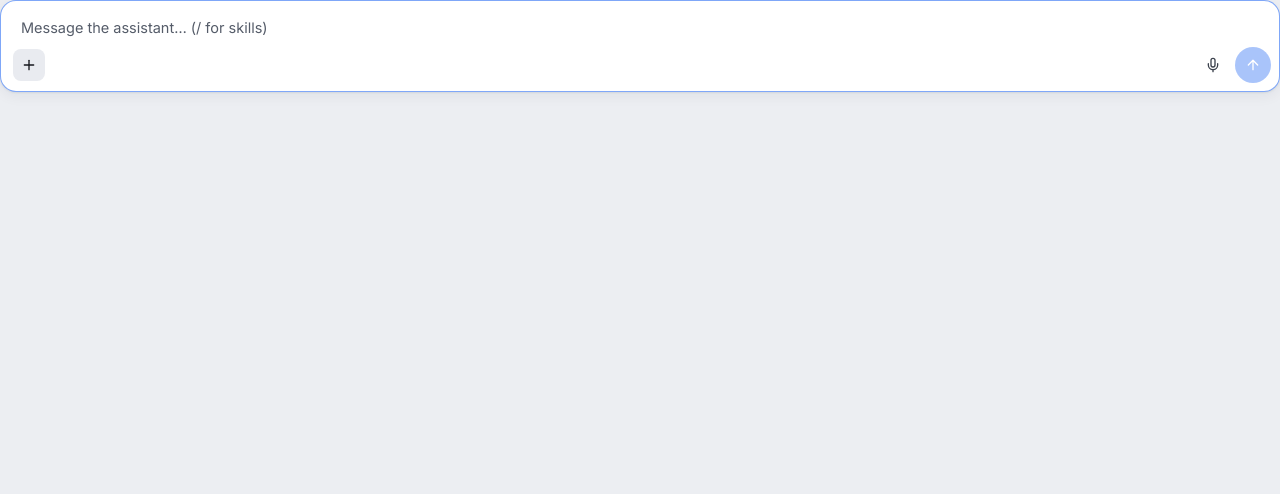
Test: slash commands in the message box › /rename takes its text; /new runs at once; /help shows everything
In the text box: point(640, 28) [9, 9, 1271, 47], type "/rename Trip to Lviv"
Then press Enter
In the text box: point(640, 28) [9, 9, 1271, 47], type "/new"
Then press Enter
In the text box: point(640, 28) [9, 9, 1271, 47], type "/help"
Then press Enter
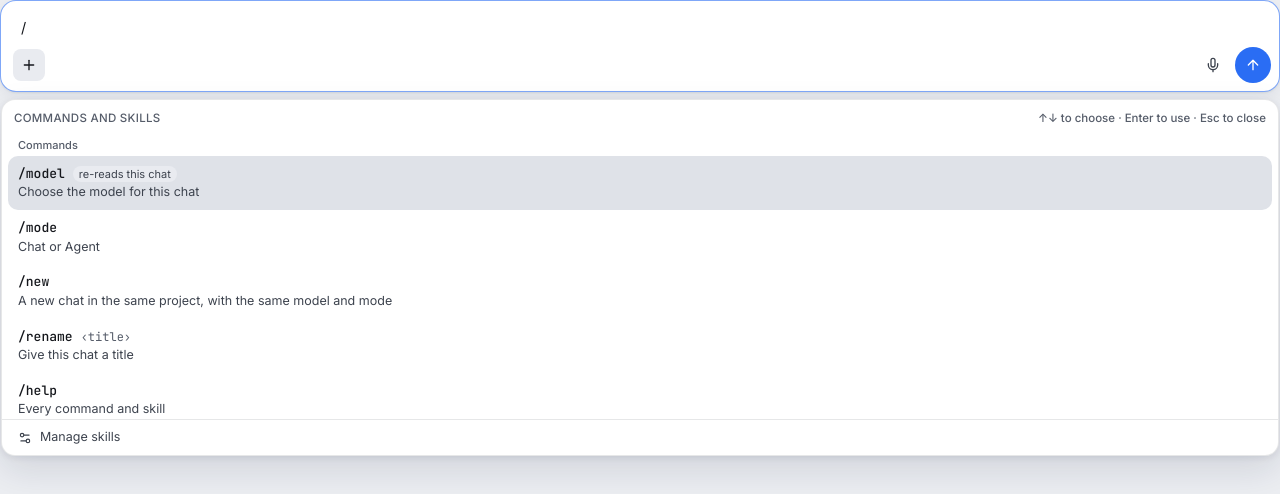
Check: the dropdown holds "/", box [9, 9, 1271, 47]
